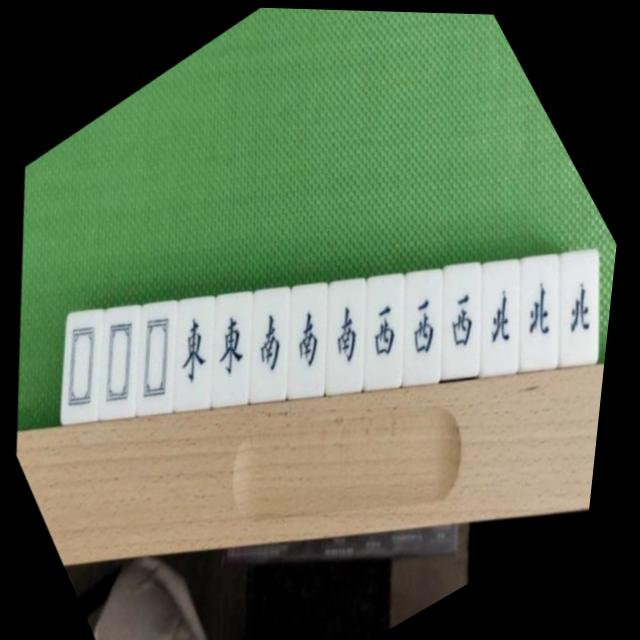hdw: (48, 292, 185, 429), (90, 289, 222, 422), (13, 297, 145, 429)
hwe: (161, 276, 303, 418), (125, 283, 264, 422)
hwn: (470, 236, 618, 383), (429, 242, 577, 389), (510, 230, 622, 376)
hws: (274, 261, 421, 406), (199, 270, 343, 413), (237, 266, 380, 409)
hww: (390, 244, 540, 393), (352, 250, 499, 397), (315, 256, 458, 399)
